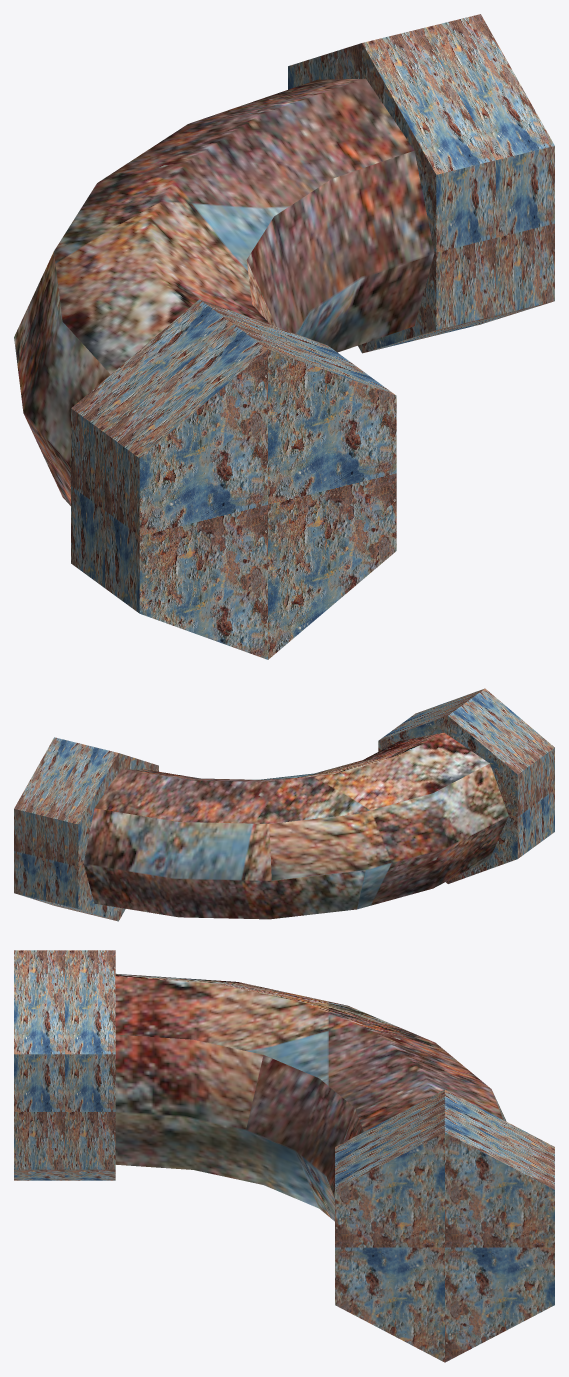
File: pipe2Corner.FBX
The picture shows the model from 3 angles, top to bottom: view 1: azimuth 30°, elevation 25°; view 2: azimuth 150°, elevation 25°; view 3: azimuth 270°, elevation 25°; orthographic projection. The views are drawn at different scales.
Parts seen in each view (by area): view 1: pipe2Corner; view 2: pipe2Corner; view 3: pipe2Corner.
Part boxes in pixels (x1,y1,x2,y2): pipe2Corner: (14, 14, 554, 659); pipe2Corner: (14, 688, 554, 921); pipe2Corner: (14, 950, 554, 1362).
Size of the model in its own units: 0.1065 by 0.05 by 0.1065.
Materials: 1 (1 with a texture image).
